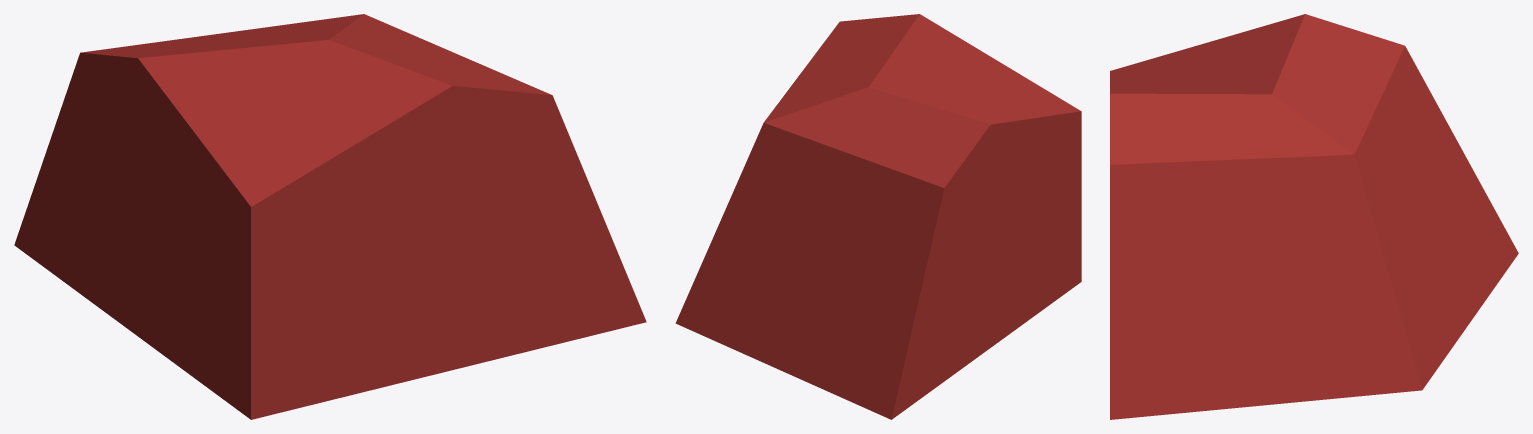
The model's file is tomatoEighth.fbx.
3 views of the same model, side by side, from view 1: azimuth 30°, elevation 25°; view 2: azimuth 150°, elevation 25°; view 3: azimuth 270°, elevation 25° (orthographic). The views are drawn at different scales.
Parts seen in each view (by area): view 1: tomatoEighth; view 2: tomatoEighth; view 3: tomatoEighth.
Boxes of the visible parts, <box> form: tomatoEighth: <box>14,14,646,419</box>; tomatoEighth: <box>675,14,1081,419</box>; tomatoEighth: <box>1110,14,1518,419</box>.
Bounding box in the file's own units: 5.31 × 3.66 × 5.51.
1 material, 1 textured.
